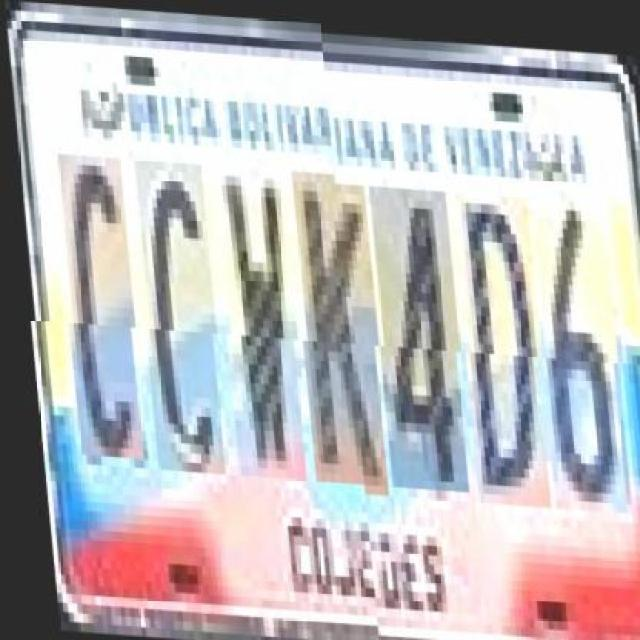4: (366, 182, 465, 486)
6: (528, 190, 623, 505)
c: (132, 168, 222, 482), (55, 163, 140, 468)
d: (451, 185, 547, 501)
k: (289, 176, 385, 492)
w: (212, 172, 303, 486)
